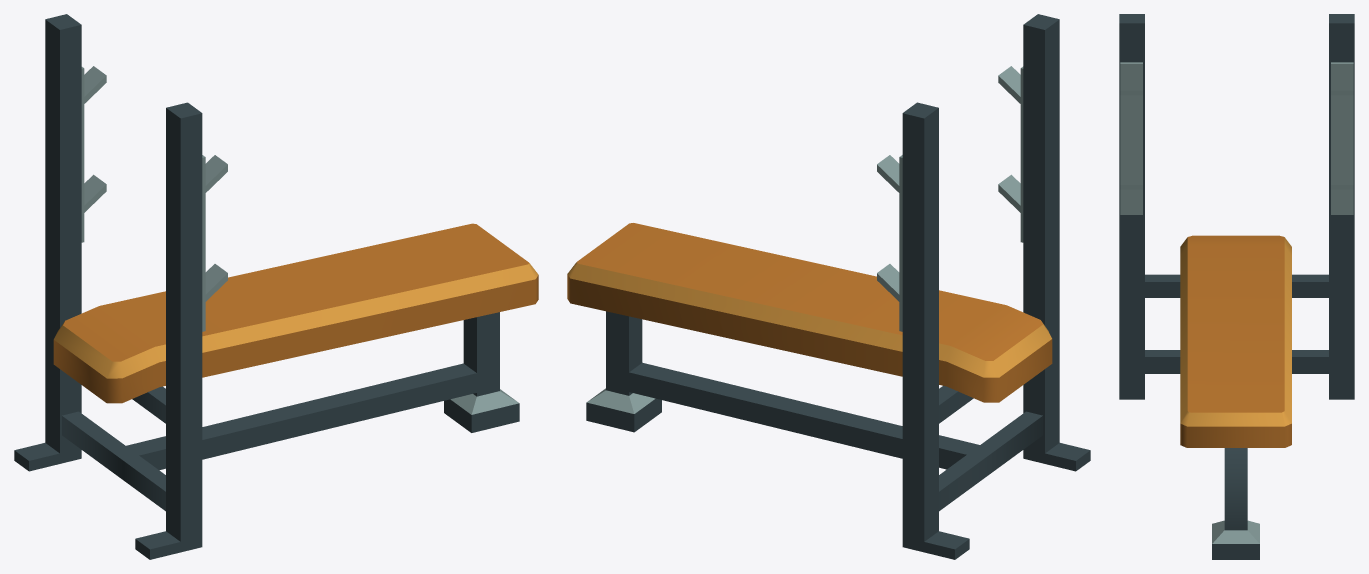
The model's file is BenchPress.fbx.
The picture shows the model from 3 angles, left to right: view 1: azimuth 30°, elevation 25°; view 2: azimuth 150°, elevation 25°; view 3: azimuth 270°, elevation 25°; orthographic projection. The views are drawn at different scales.
Parts seen in each view (by area): view 1: BenchPress; view 2: BenchPress; view 3: BenchPress.
Part boxes in pixels (x1,y1,x2,y2): BenchPress: (14, 14, 538, 559); BenchPress: (567, 14, 1090, 559); BenchPress: (1119, 14, 1354, 559).
Bounding box in the file's own units: 151 × 147 × 82.61.
